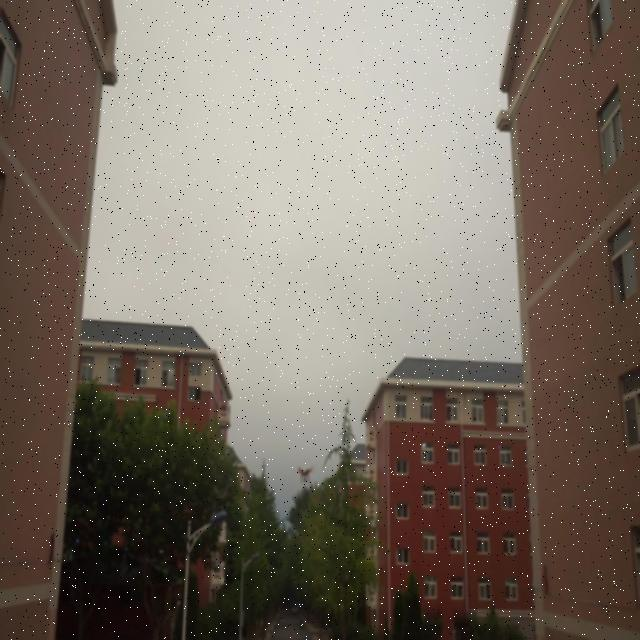UAV: (298, 466, 312, 484)
